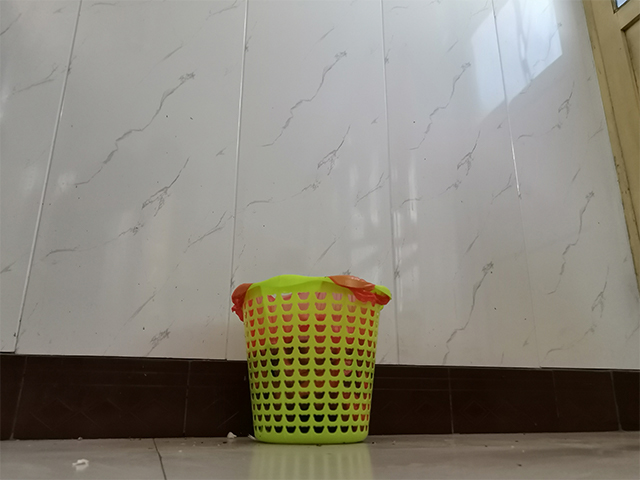trashcan: (229, 274, 395, 446)
